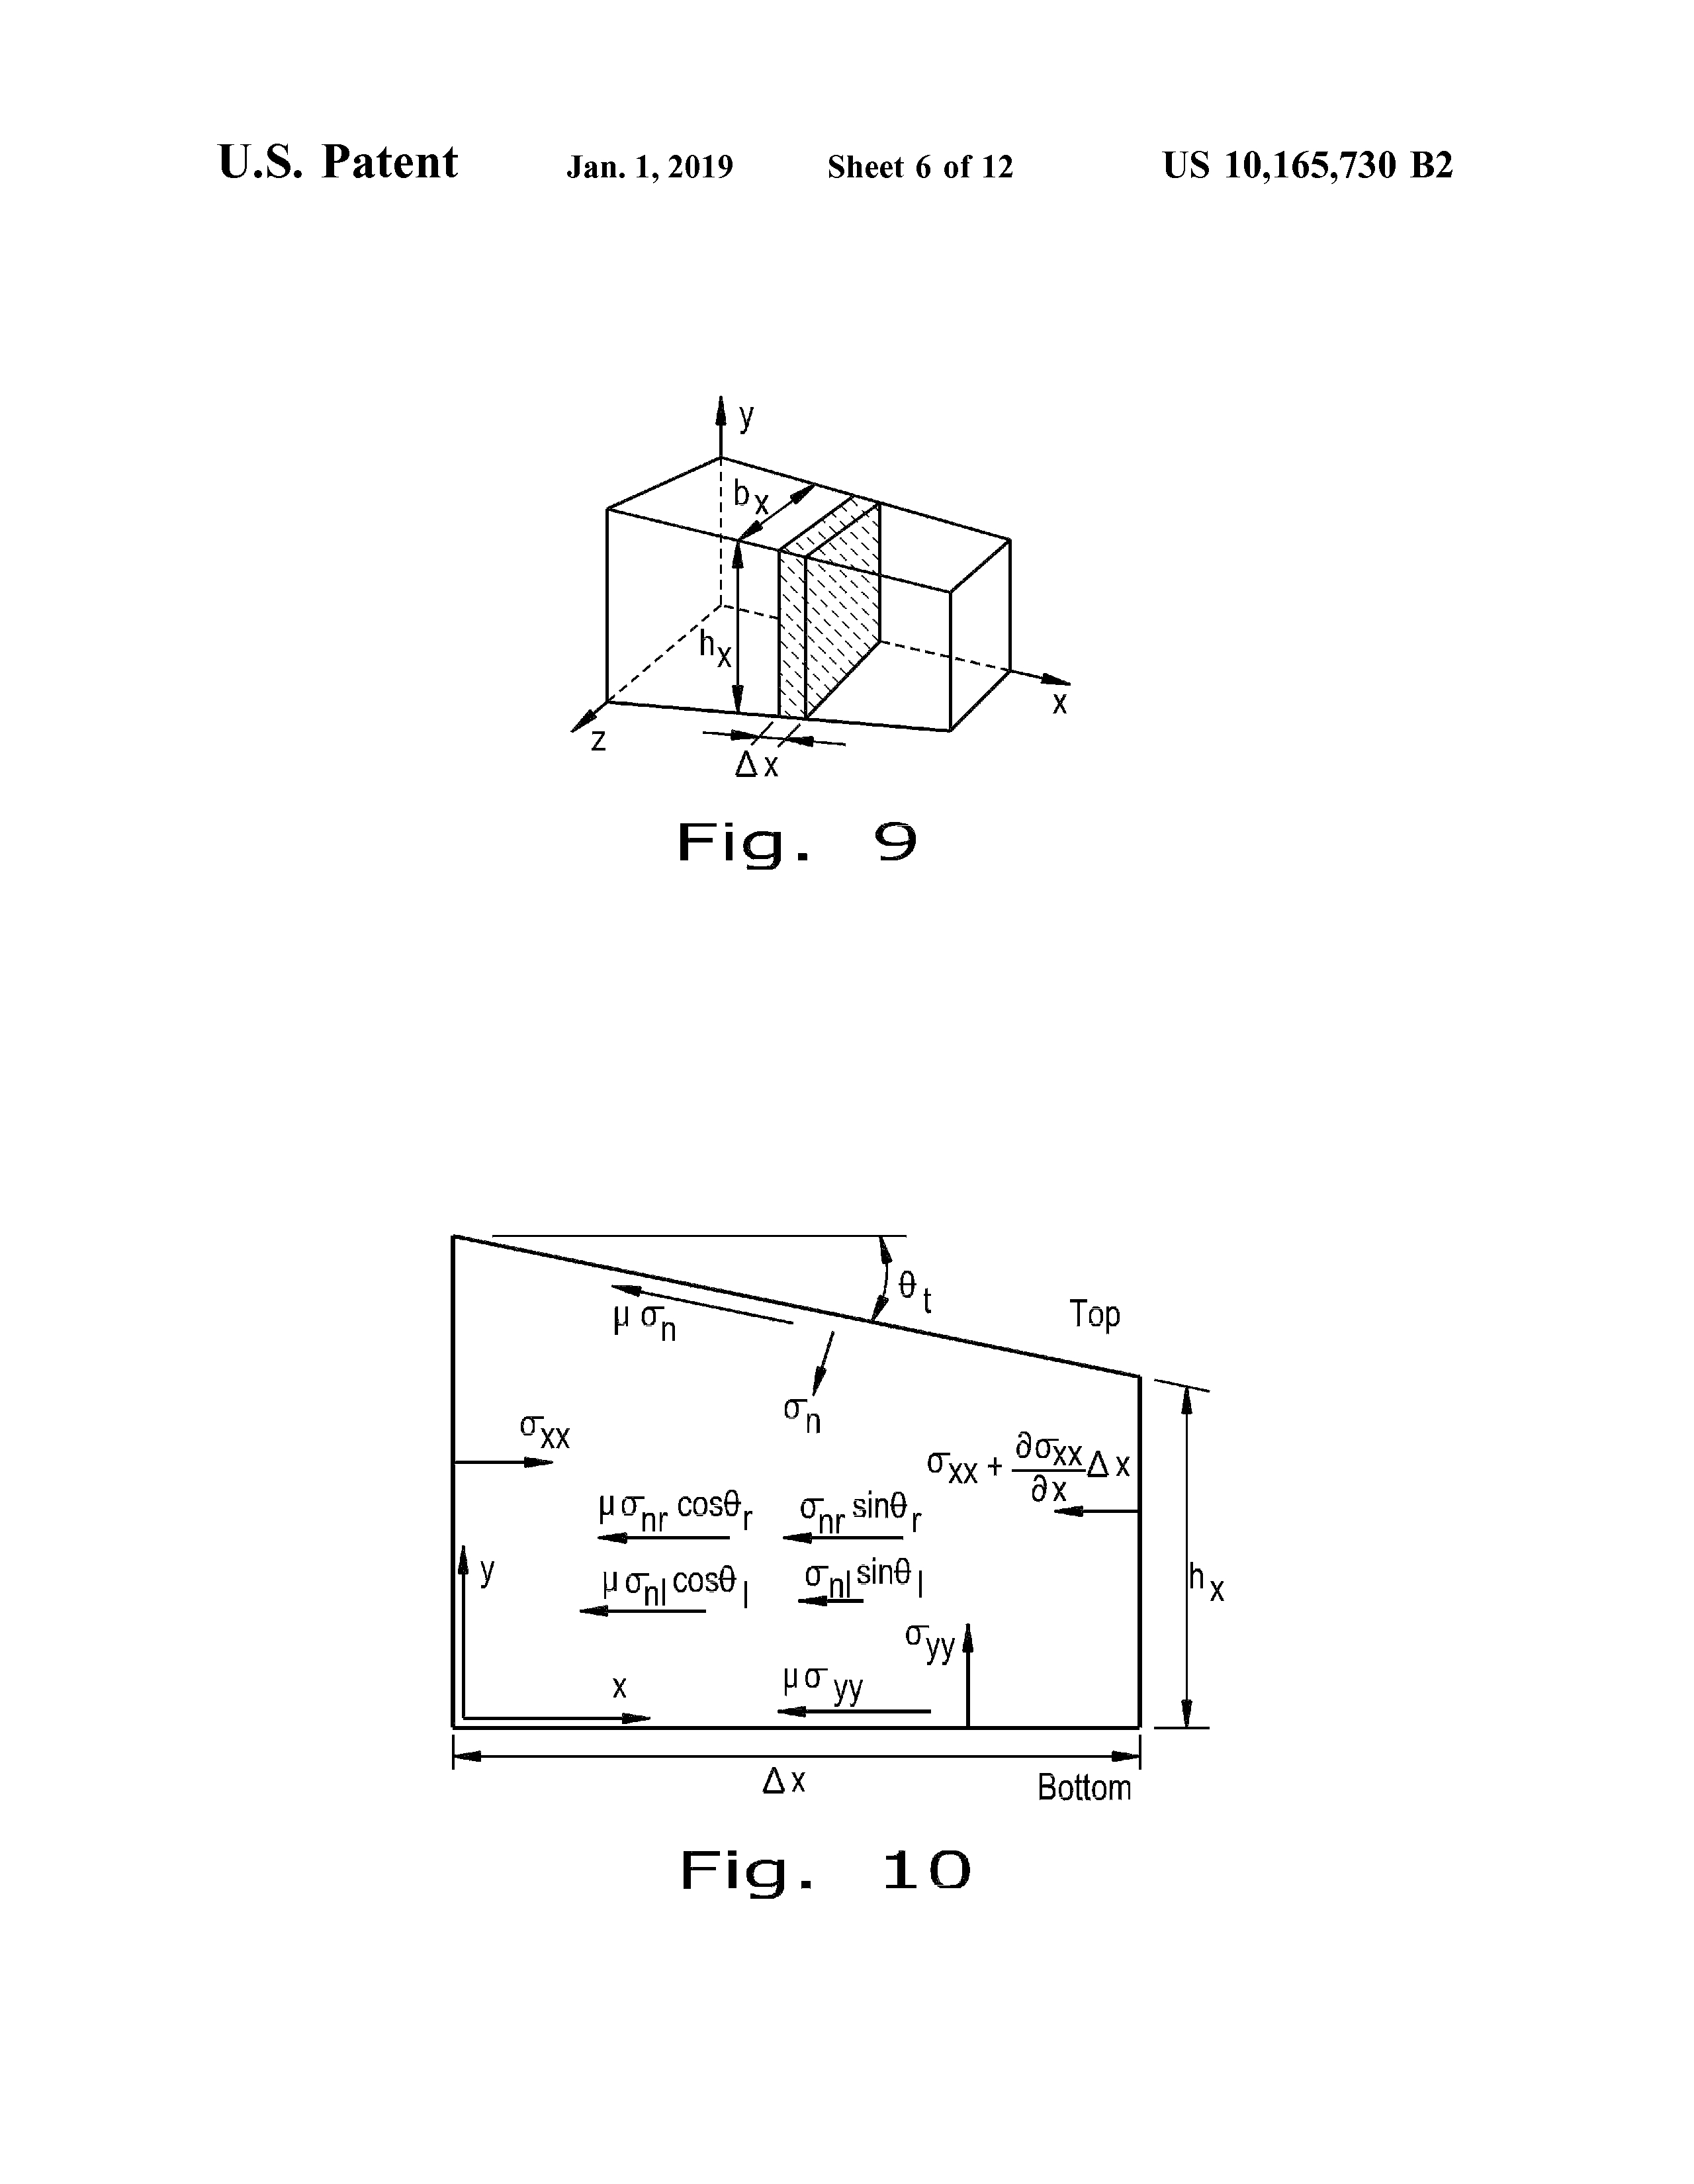patent image: (365, 1145, 1392, 1962), (494, 331, 1133, 1024)
